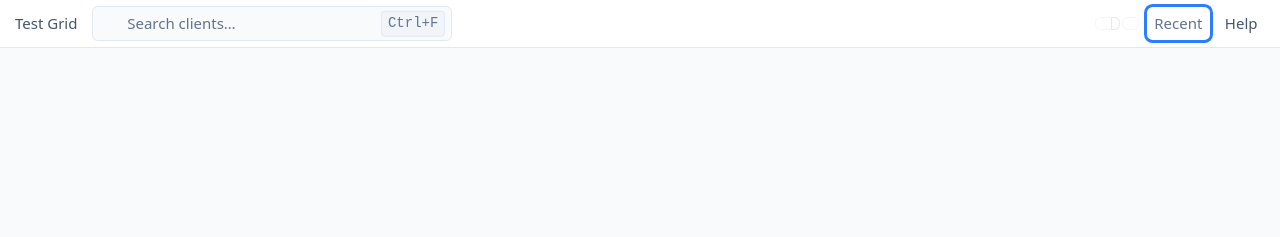
Test case: TopBar › recent records menu: focus moves in, arrows move, Escape closes and focus goes back
Click the button with aria-label "Recently viewed".
click(1178, 24)  # box [1147,7,1210,40]
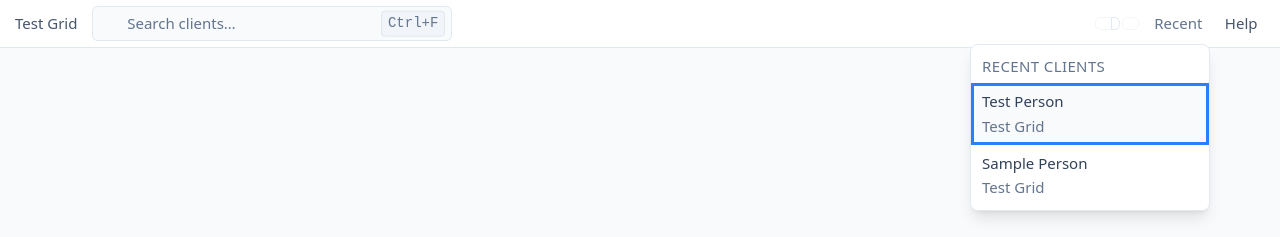
Press ArrowDown in the menu item "Test Person Test Grid", box [971,83,1209,144]
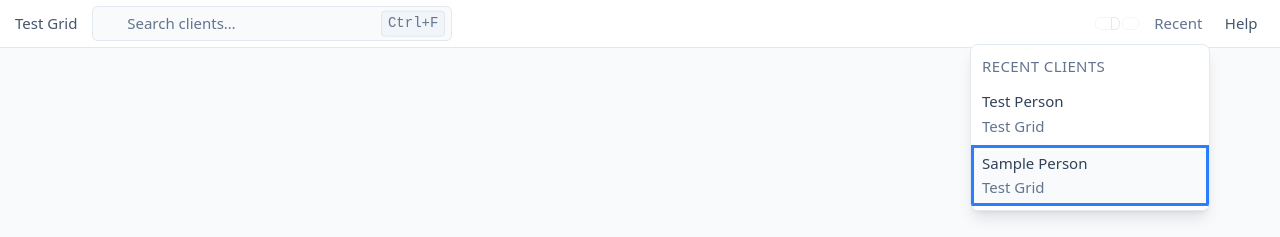
Press Escape in the menu item "Sample Person Test Grid", box [971,144,1209,206]
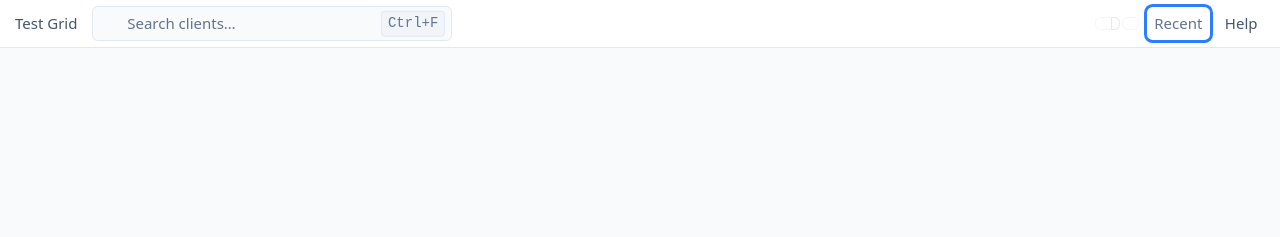
Now the menu is gone
